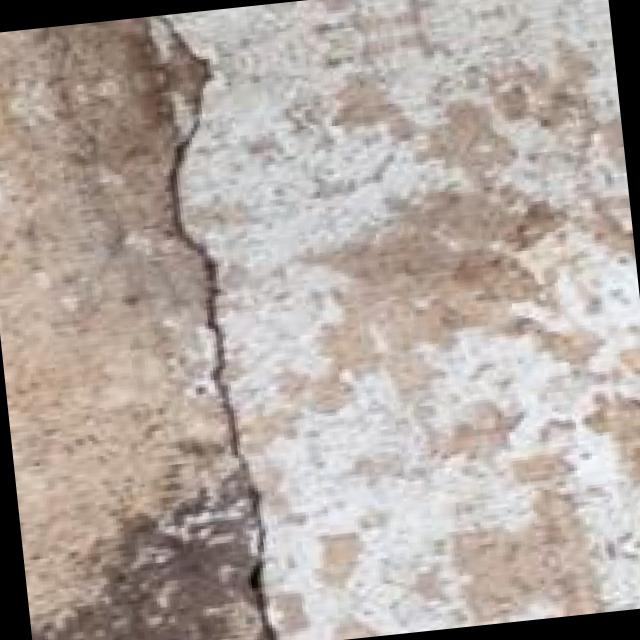crack: (95, 5, 321, 640)
